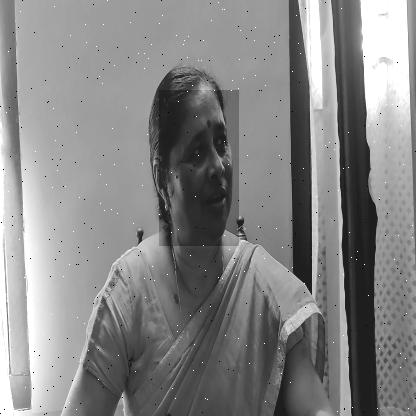Distracted: (159, 90, 239, 246)
